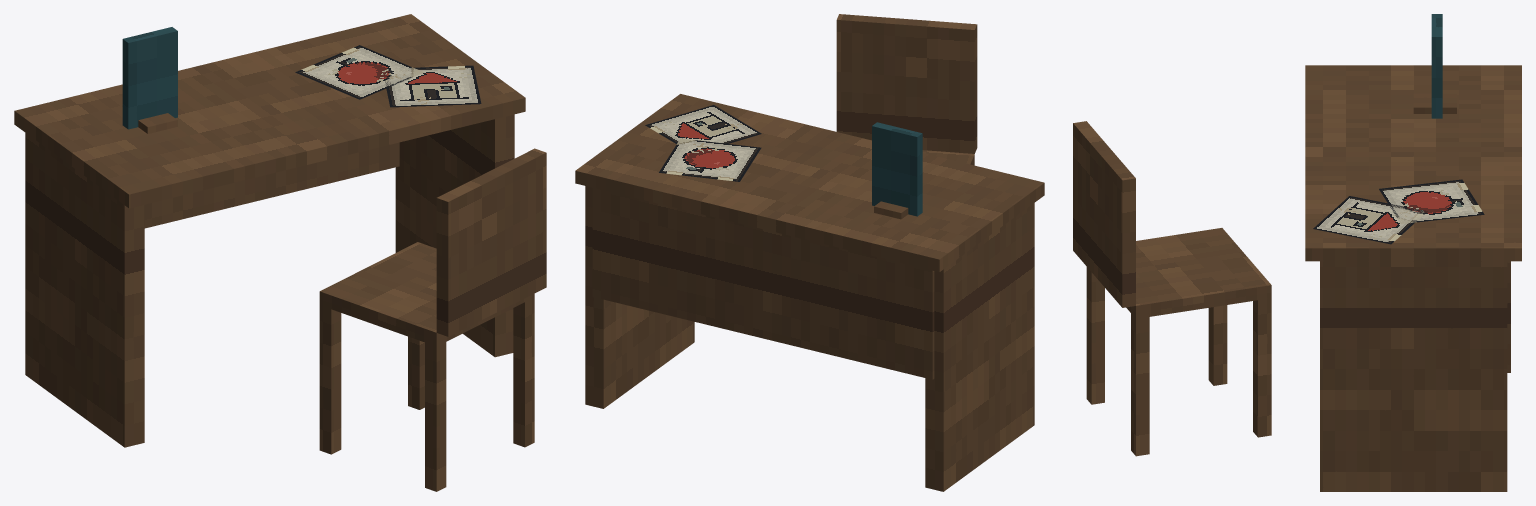
File: room_props.gltf
The picture shows the model from 3 angles, left to right: view 1: azimuth 30°, elevation 25°; view 2: azimuth 150°, elevation 25°; view 3: azimuth 270°, elevation 25°; orthographic projection. The views are drawn at different scales.
Parts seen in each view (by area): view 1: room_props; view 2: room_props; view 3: room_props.
Boxes of the visible parts, x1=… form: room_props: x1=14, y1=14, x2=546, y2=491; room_props: x1=575, y1=14, x2=1044, y2=491; room_props: x1=1073, y1=14, x2=1521, y2=491.
Size of the model in its own units: 1.2 by 1 by 1.24.
Materials: 4 (4 with a texture image).
